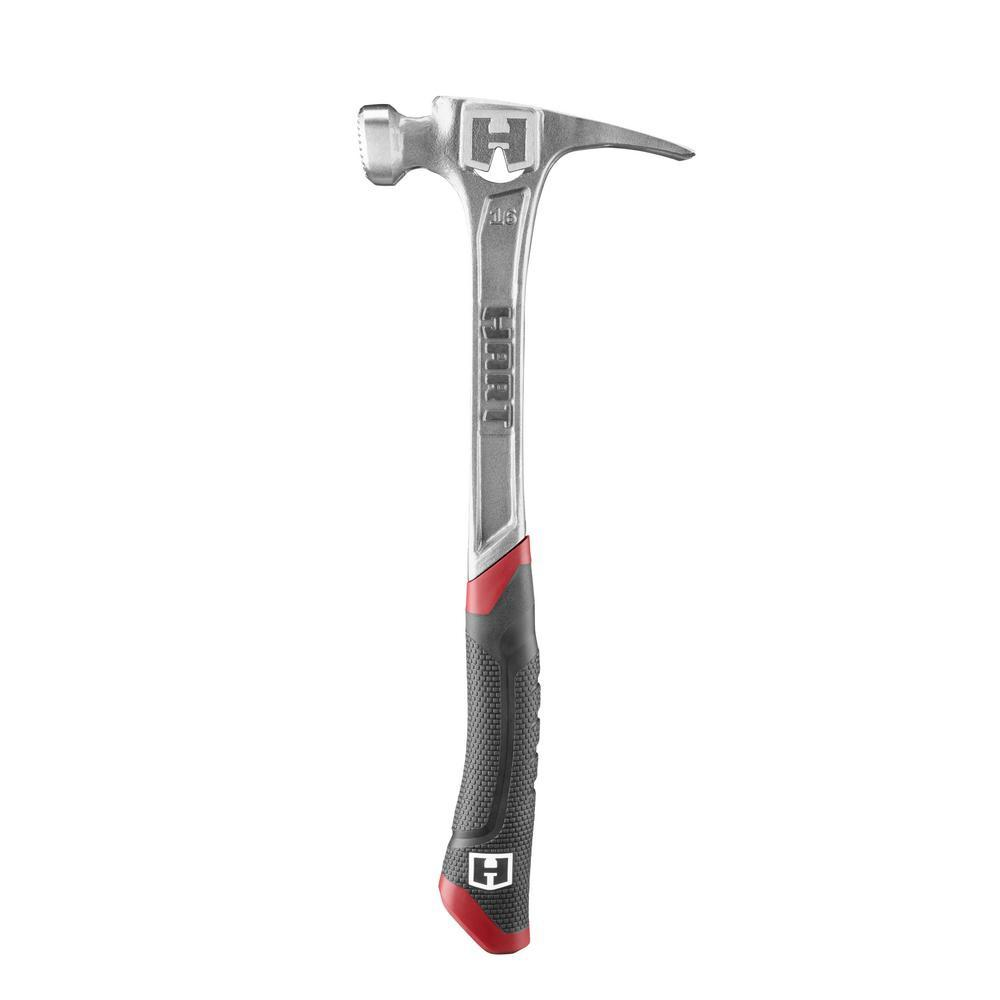Hammers: (328, 65, 715, 978)
